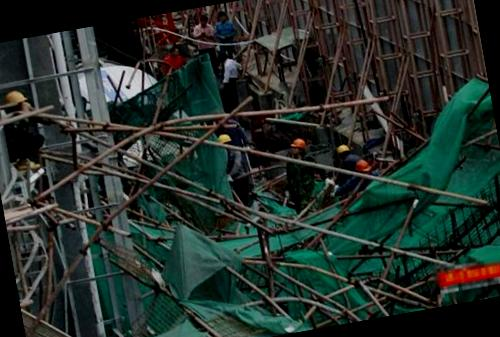no_helmet: (166, 41, 182, 60)
